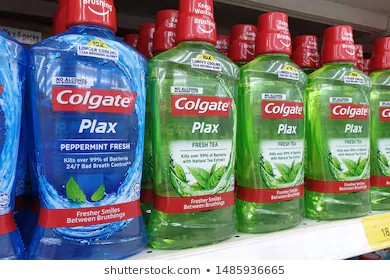colgate-Plax: (302, 22, 373, 223)
colgate-family: (23, 1, 148, 259), (148, 1, 238, 249), (239, 7, 307, 235)
